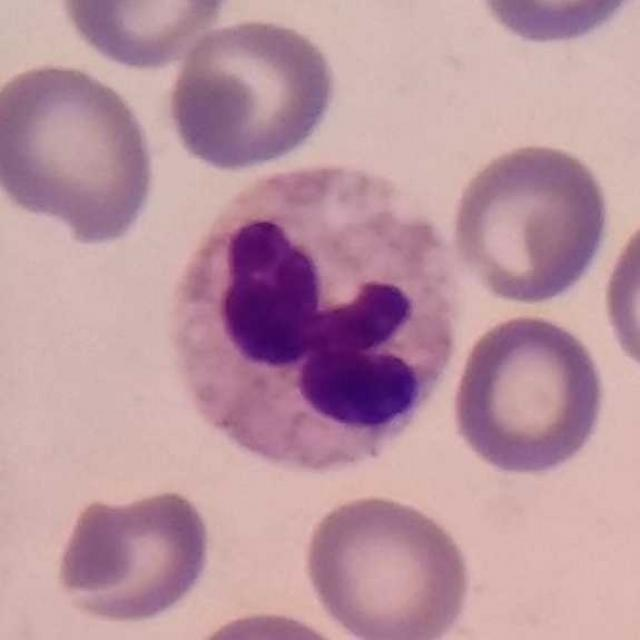Neutrophil: (160, 148, 477, 480)
RBC: (0, 57, 161, 246), (164, 13, 342, 174), (446, 138, 614, 307), (446, 310, 610, 478), (299, 488, 476, 640), (50, 482, 217, 628), (54, 0, 238, 72), (468, 0, 640, 50), (597, 204, 640, 386), (180, 604, 358, 640)
